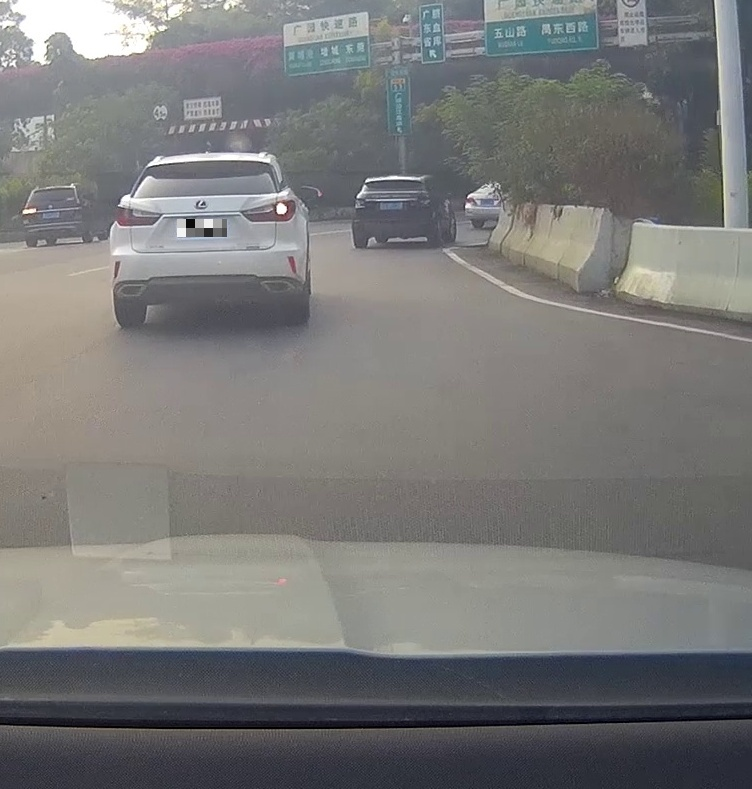L_light: (115, 205, 163, 227), (355, 199, 372, 208), (22, 208, 36, 215)
R_light: (241, 198, 296, 222), (411, 199, 430, 207), (66, 202, 81, 207)
T_light: (193, 160, 216, 165), (386, 179, 399, 182), (46, 188, 58, 191)
day-left: (21, 184, 82, 247)
day-no: (352, 175, 432, 248)
day-right: (109, 152, 308, 327)
plate_1: (177, 219, 227, 237)
